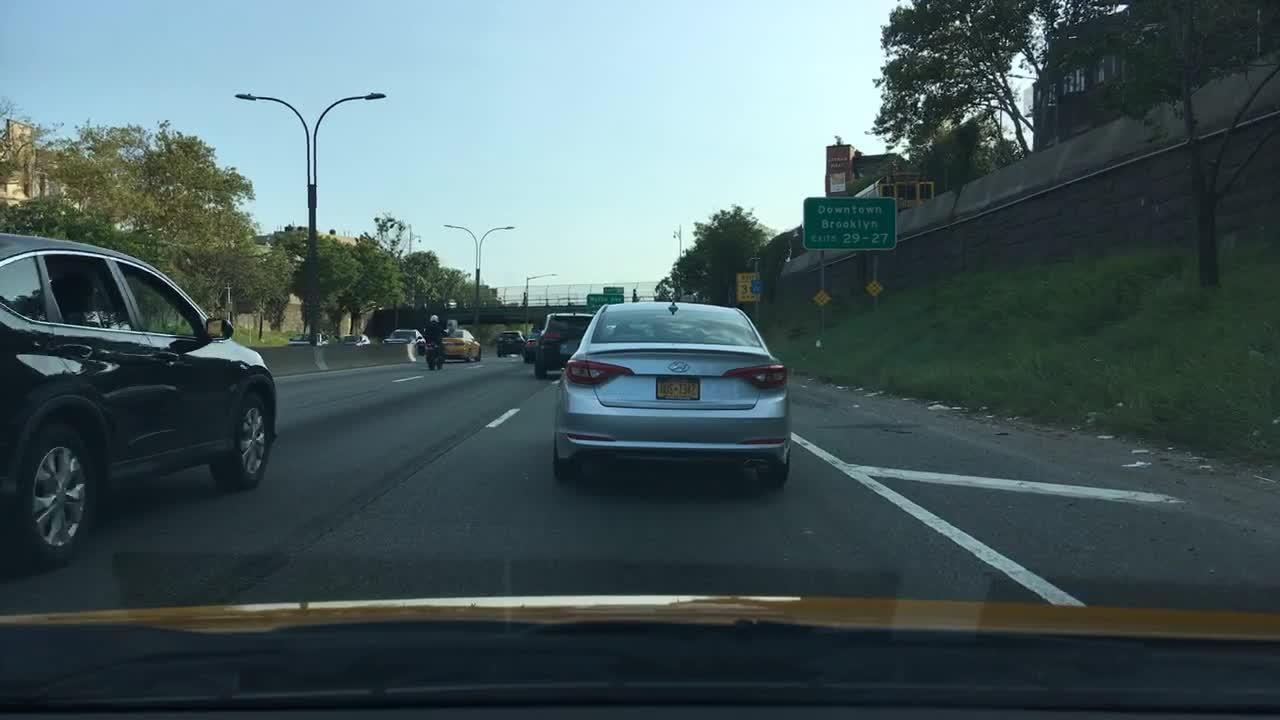Hyundai: (669, 353, 694, 377)
